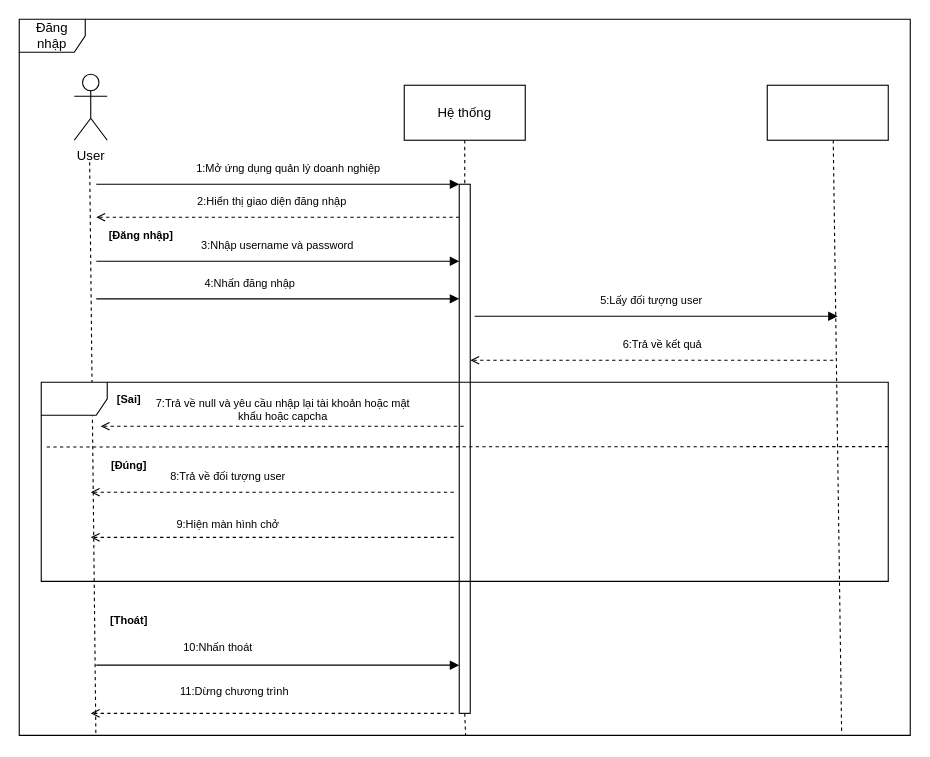
The diagram is 930 pixels wide and 757 high, and some of its shapes have lost their labels. The shapes that lost their labels are listed below. From the top down, each one's box as (x1, y1, x2, y2) in pixels, then its label:
(766, 84, 888, 140): Cơ sở dữ liệu tài khoản
(40, 381, 888, 581): alt
